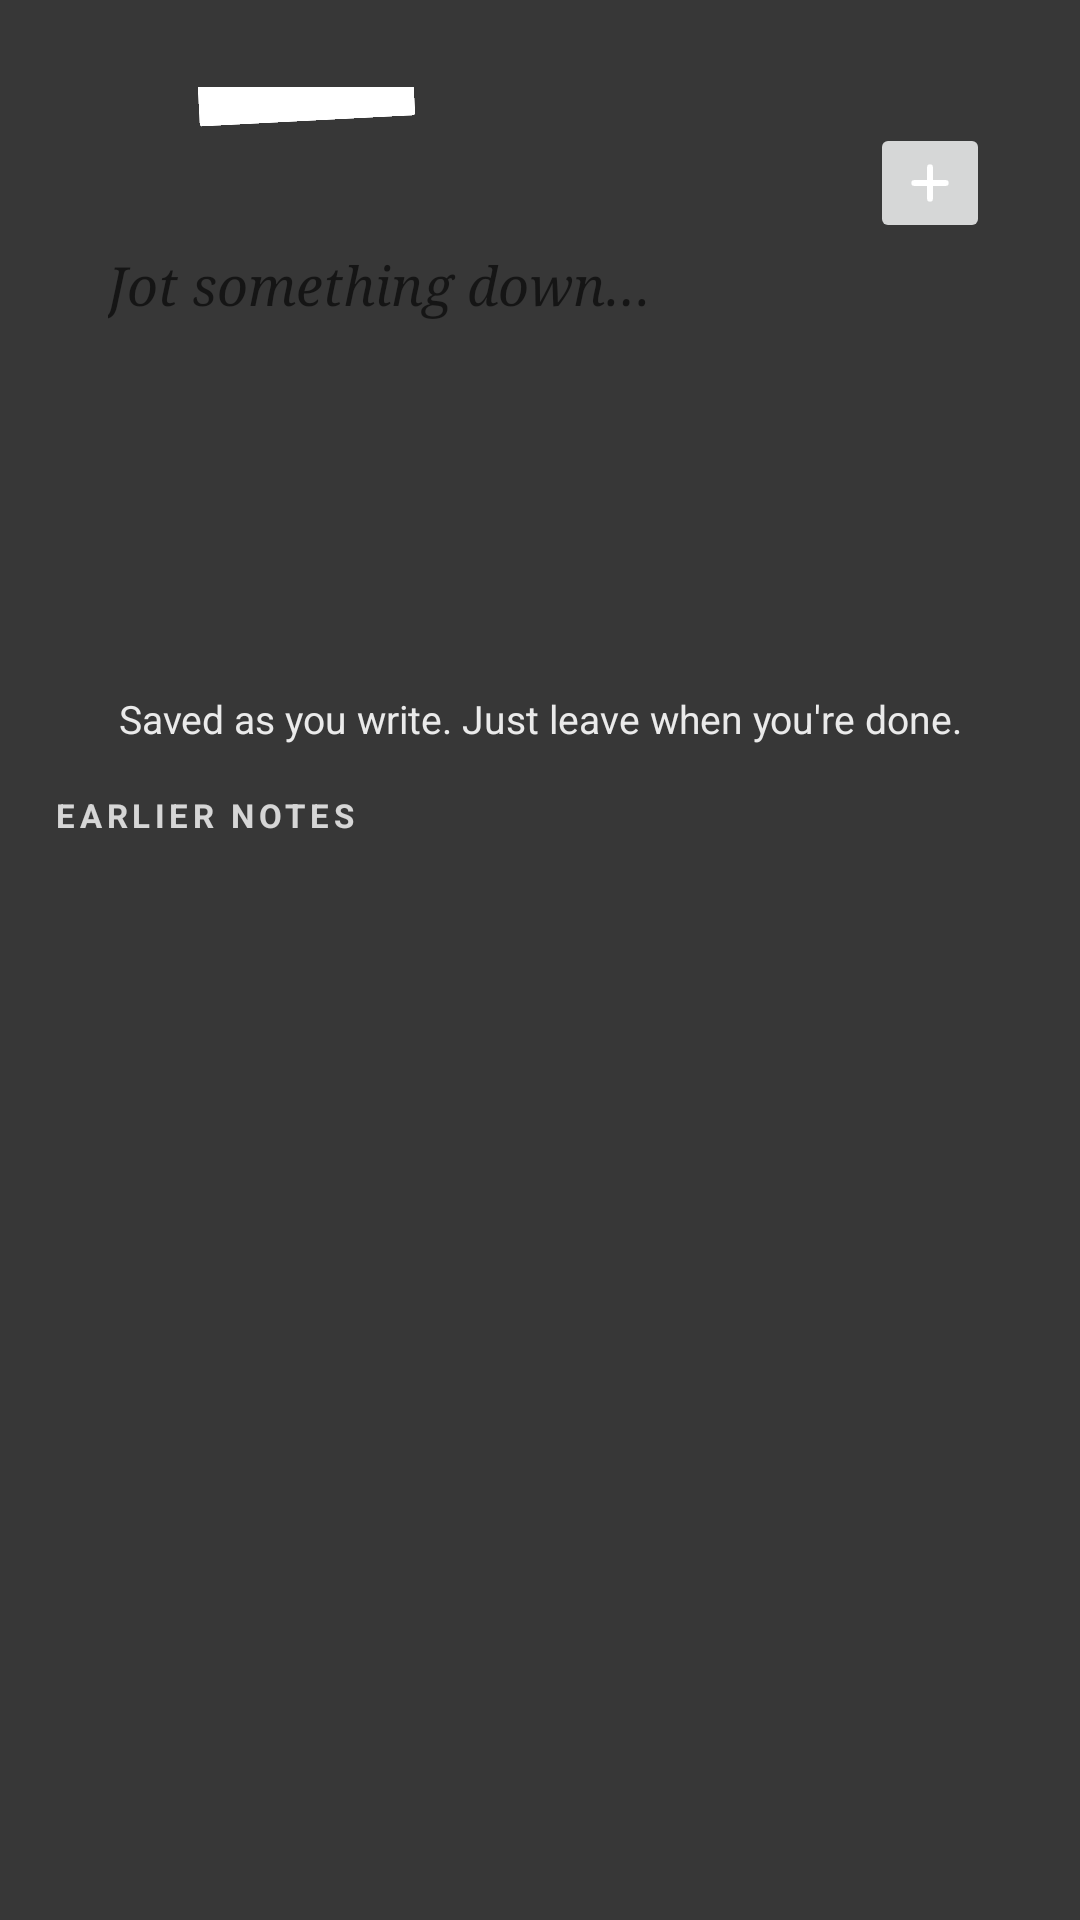

Screen size 1080 x 1920. Icon name, then its center in pixels as (x=x, y=y):
New note: (x=930, y=183)
